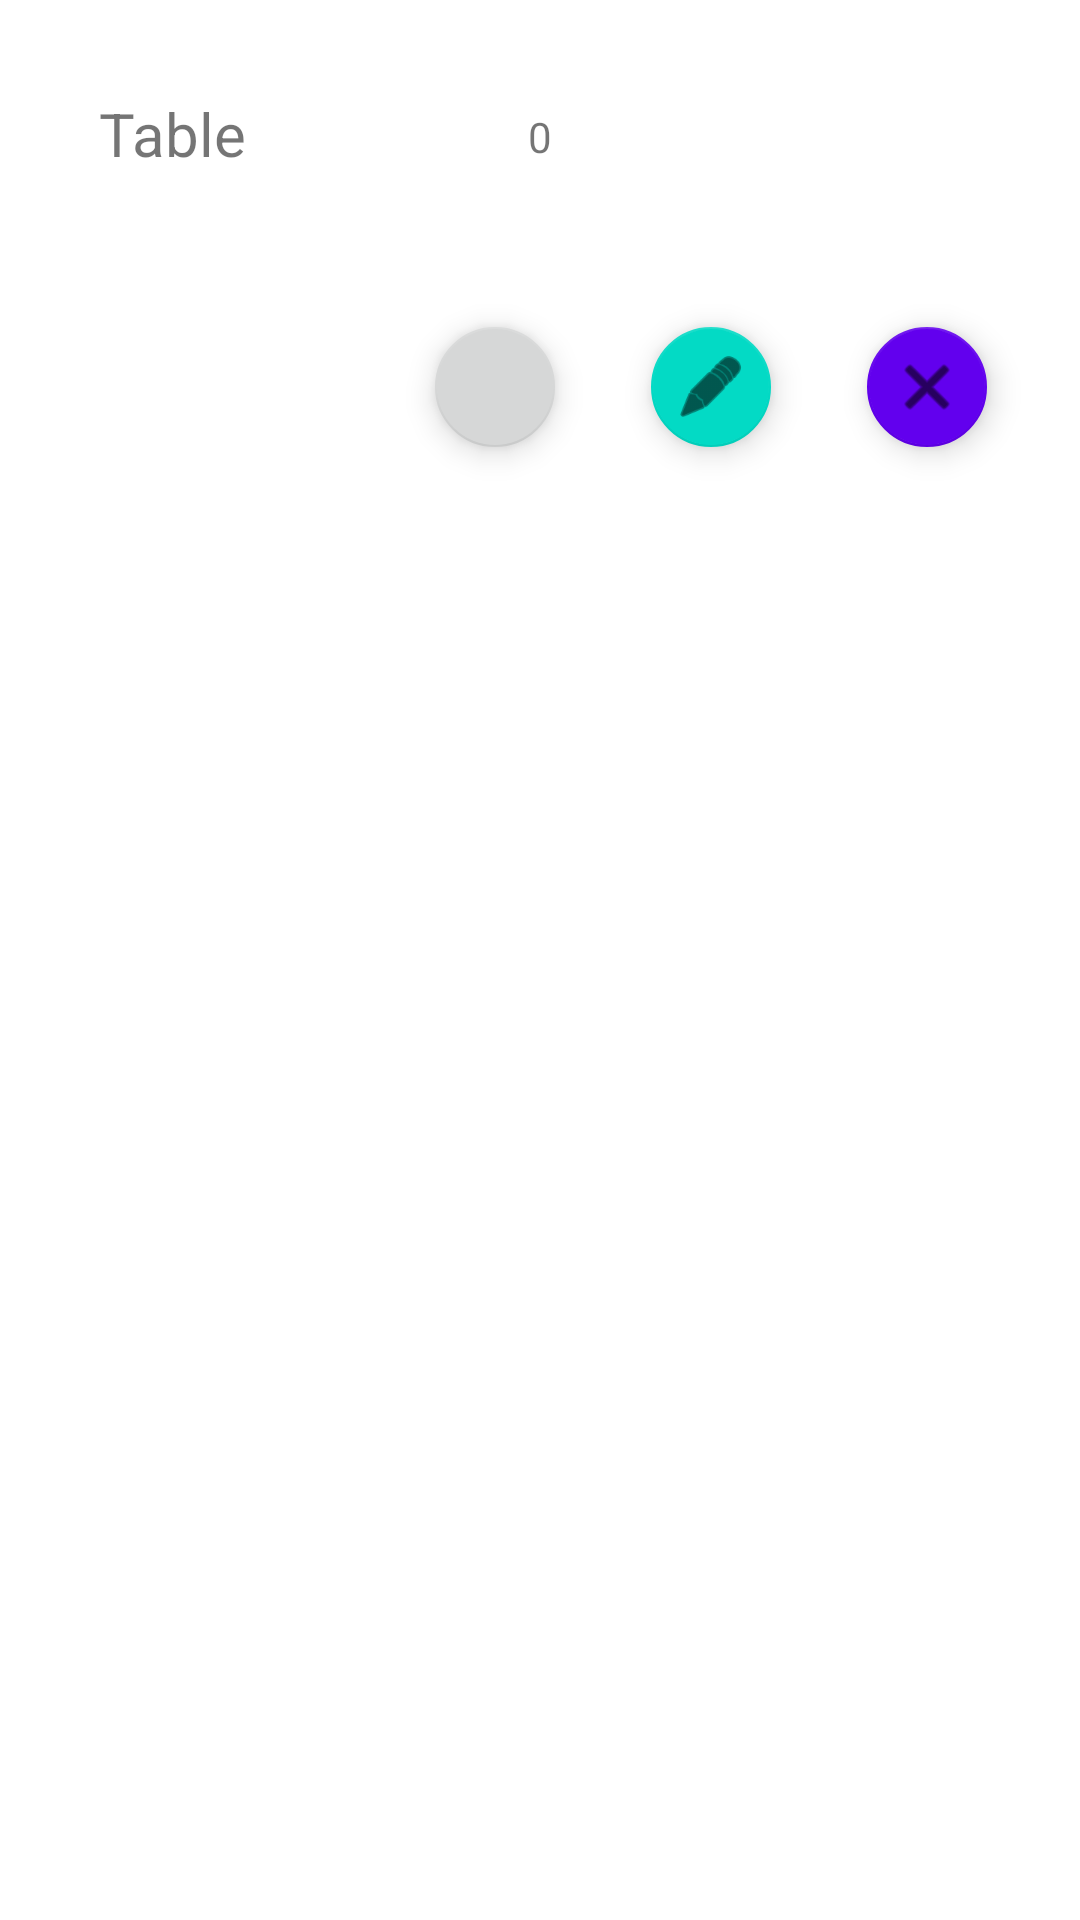

Locate icon controls on the screen. Image size 1080w x 1920h, boxes as detection(x1, y1, x2, y2).
close clear cancel: detection(867, 327, 989, 449)
edit: detection(651, 327, 772, 449)
